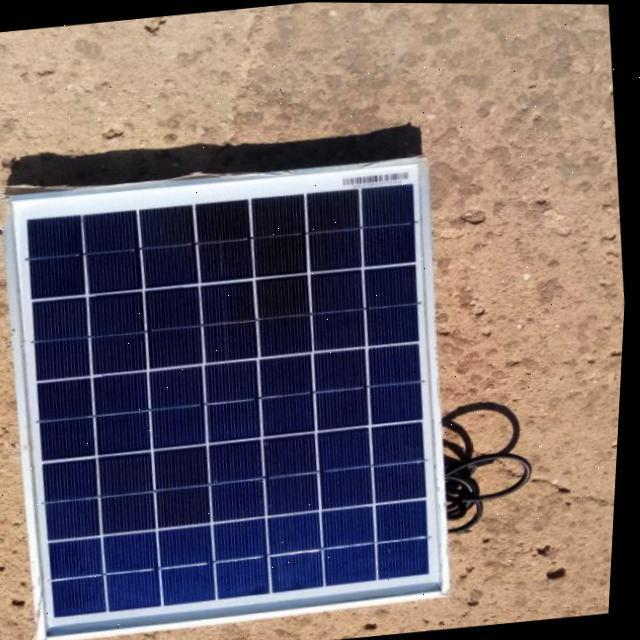Normal Solar Panel: (0, 150, 472, 640)
